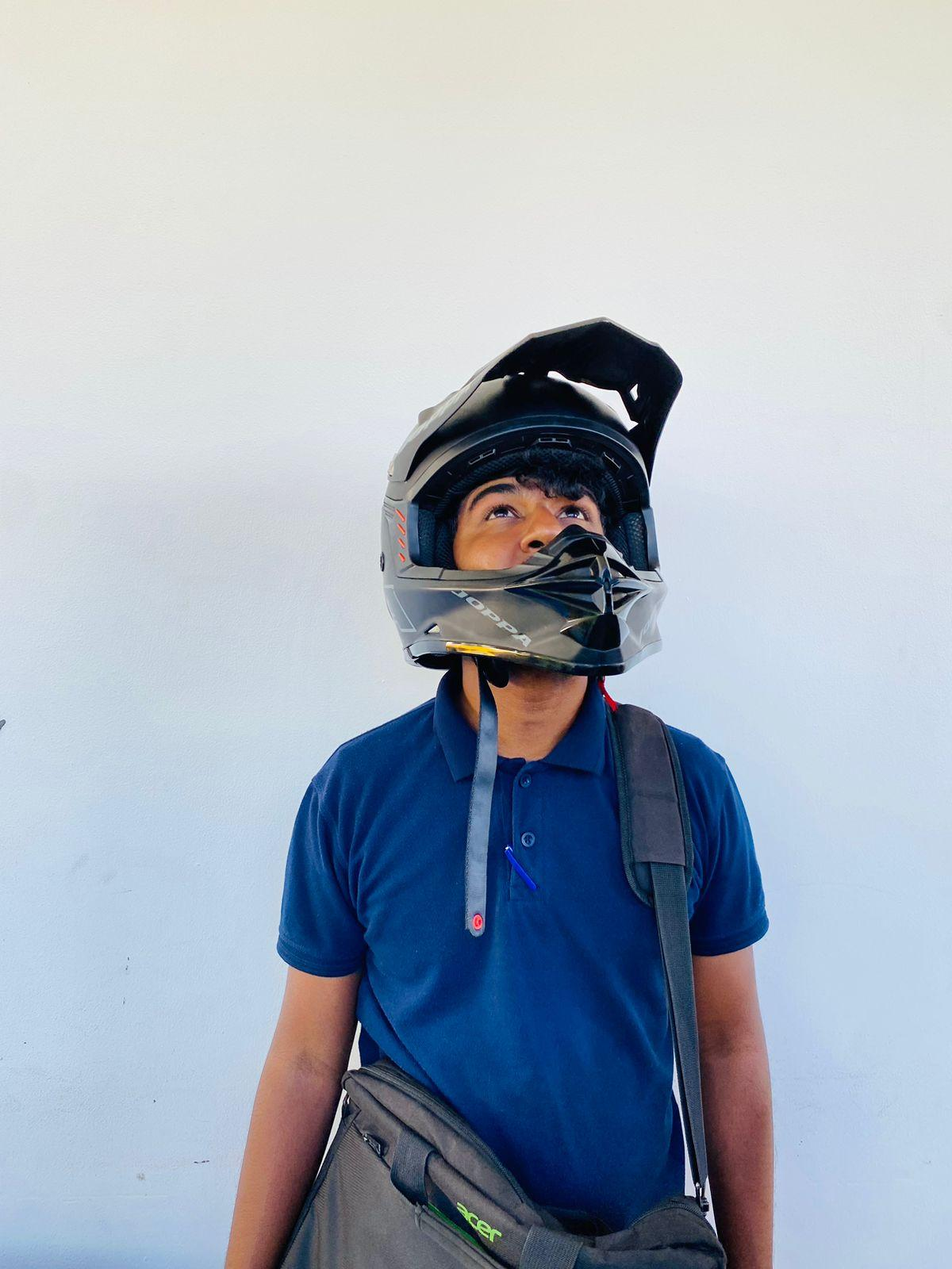helmet: (376, 315, 695, 684)
